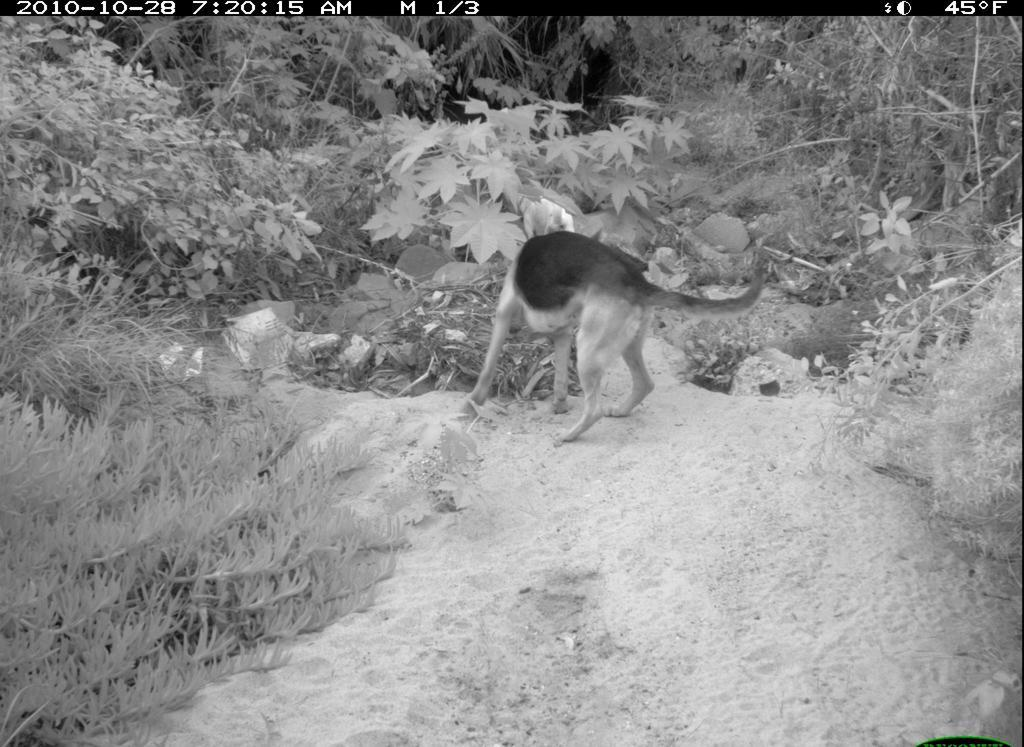dog: (453, 220, 783, 449)
